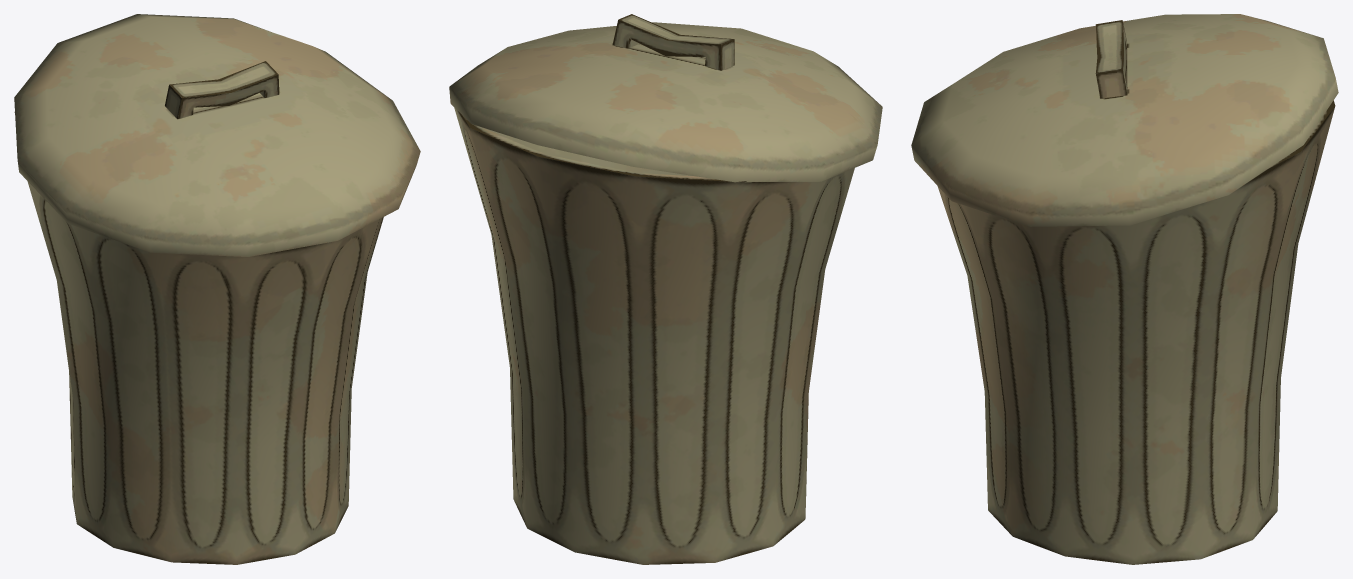
The model's file is SM_trash_can_03.glb.
3 views of the same model, side by side, from view 1: azimuth 30°, elevation 25°; view 2: azimuth 150°, elevation 25°; view 3: azimuth 270°, elevation 25° (orthographic). The views are drawn at different scales.
Visible parts, largest first — view 1: SM_trash_can_03; view 2: SM_trash_can_03; view 3: SM_trash_can_03.
Boxes of the visible parts, x1,y1,x2,y2 form: SM_trash_can_03: (14,14,420,564); SM_trash_can_03: (449,14,882,564); SM_trash_can_03: (911,14,1338,564).
Bounding box in the file's own units: 0.9129 × 1.09 × 0.919.
Materials: 1 (1 with a texture image).
